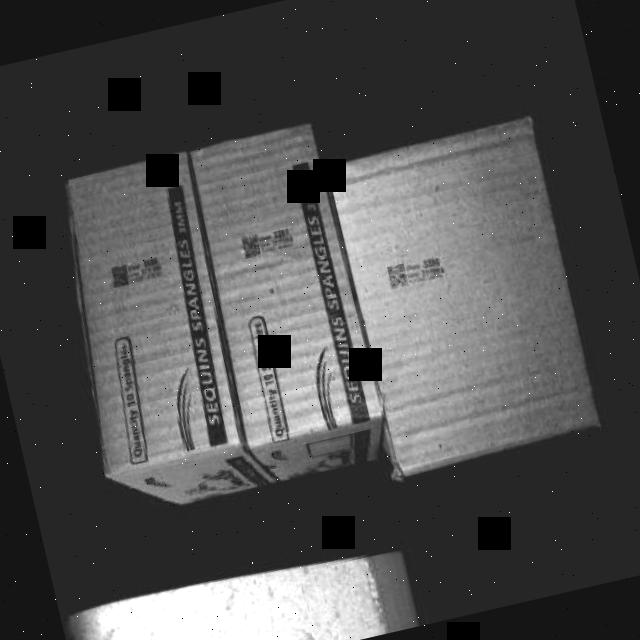box: (328, 120, 601, 472), (182, 119, 382, 438), (41, 152, 242, 468)
